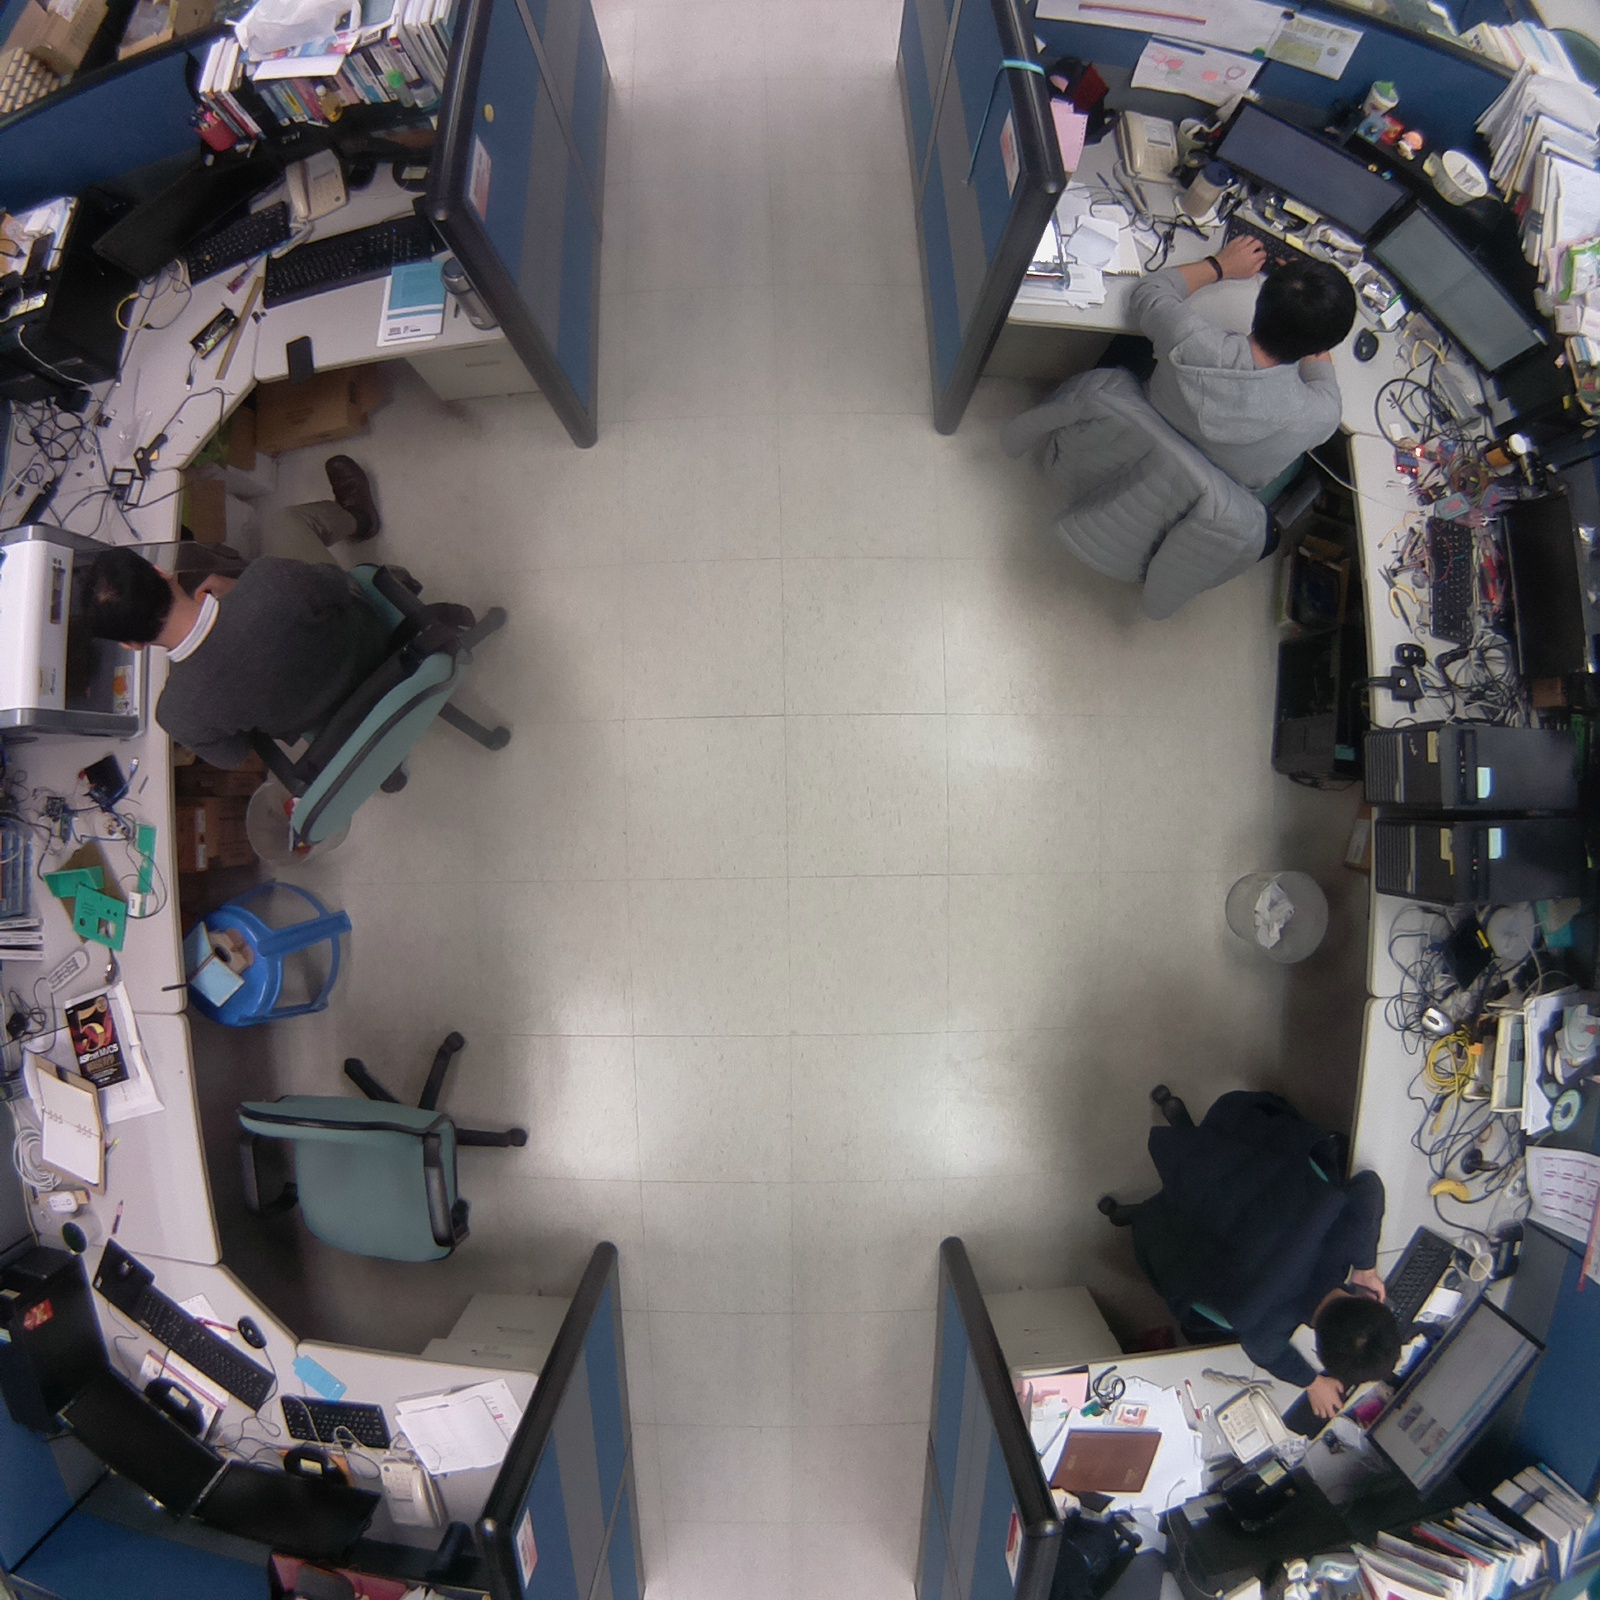chair: (219, 1014, 547, 1291)
head: (1238, 251, 1370, 365), (72, 540, 193, 657), (1310, 1287, 1406, 1393)
sitting: (67, 442, 532, 886), (963, 247, 1356, 650), (1073, 1065, 1416, 1424)
